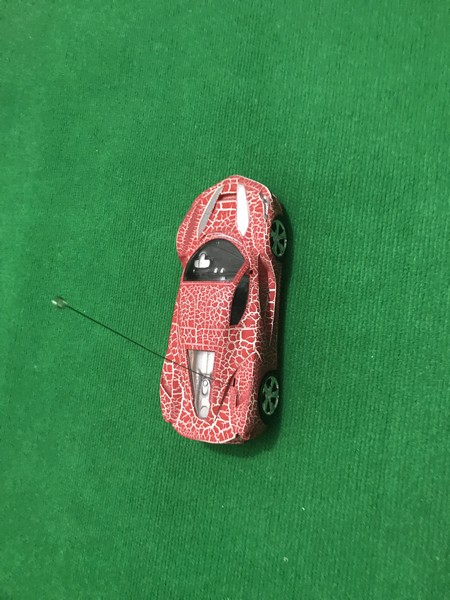RC: (157, 174, 290, 449)
